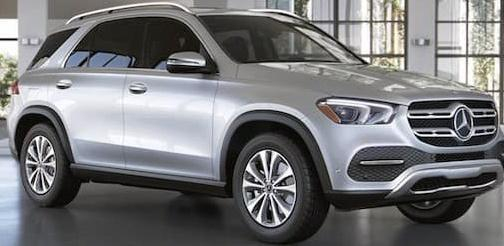SUV: (9, 5, 504, 244)
